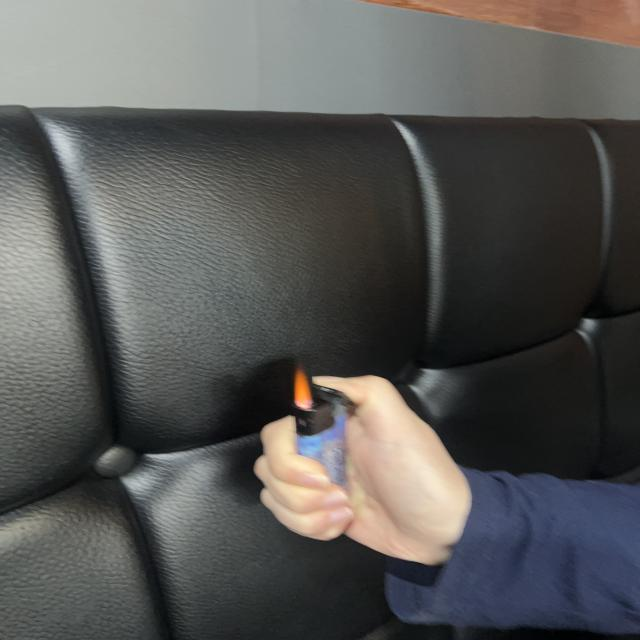fire: (294, 364, 316, 411)
